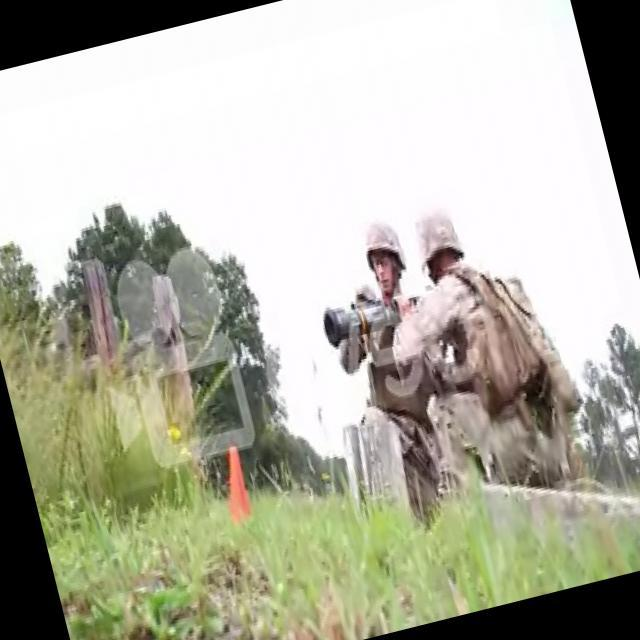rocket: (322, 290, 407, 350)
